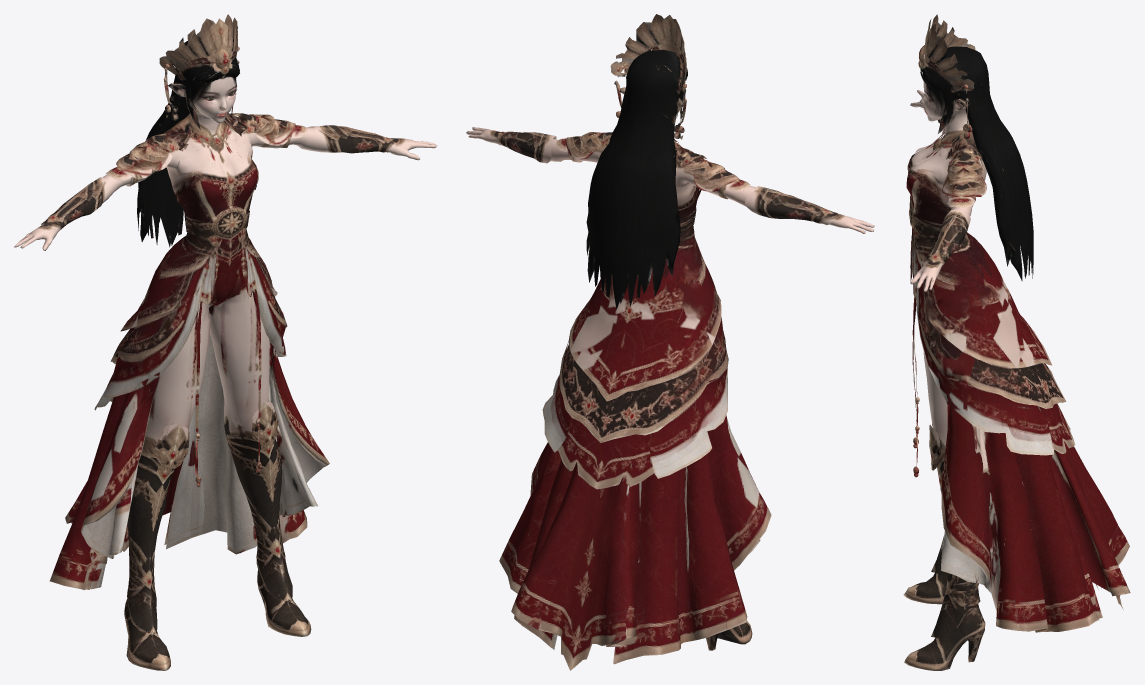
Rendered from mi_nuong_mesh.fbx.
3 views of the same model, side by side, from view 1: azimuth 30°, elevation 25°; view 2: azimuth 150°, elevation 25°; view 3: azimuth 270°, elevation 25° (orthographic). The views are drawn at different scales.
Visible parts, largest first — view 1: Mesh_0; view 2: Mesh_0; view 3: Mesh_0.
Boxes of the visible parts, x1,y1,x2,y2 form: Mesh_0: [14, 14, 437, 670]; Mesh_0: [466, 14, 874, 670]; Mesh_0: [903, 14, 1130, 670].
Size of the model in its own units: 70.41 by 100 by 33.8.
Materials: 1 (1 with a texture image).
